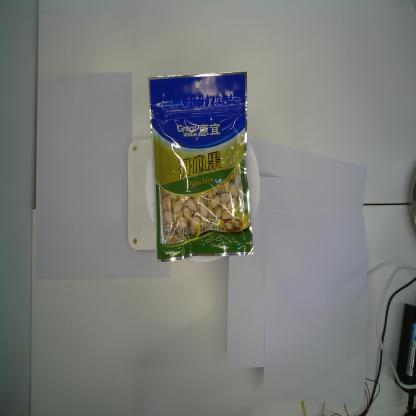Dried Fruit: (146, 69, 256, 267)
